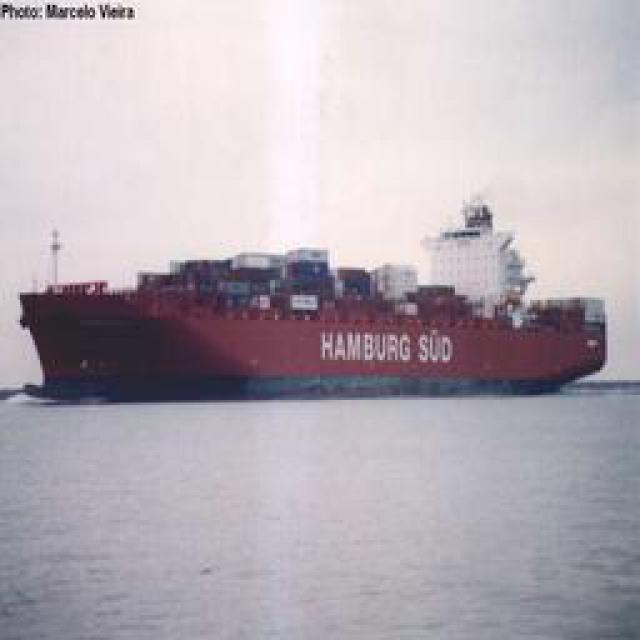Ship: (16, 195, 621, 405)
